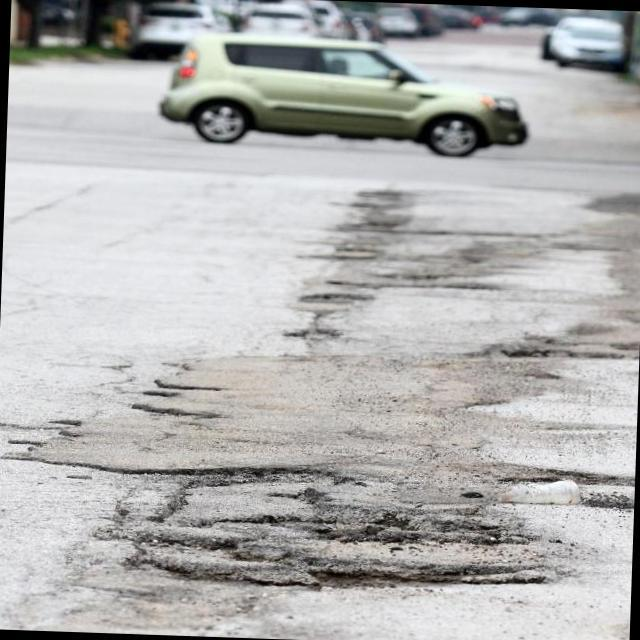Pothole: (129, 499, 547, 585)
